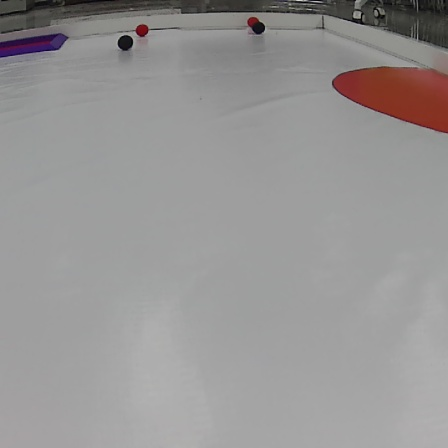black: (118, 37, 135, 51), (252, 23, 269, 32)
red: (135, 26, 149, 35), (247, 18, 261, 22)
red_aim: (0, 30, 71, 56)
red_base: (331, 63, 448, 141)
